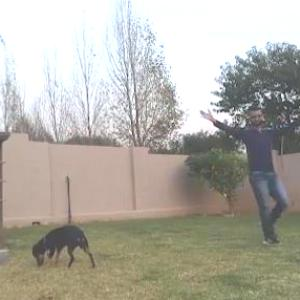takeoff: (181, 104, 300, 251)
